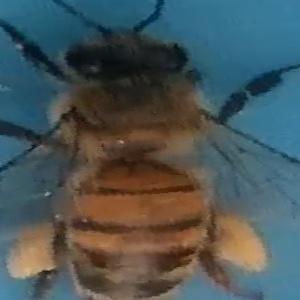bee: (10, 10, 293, 300)
